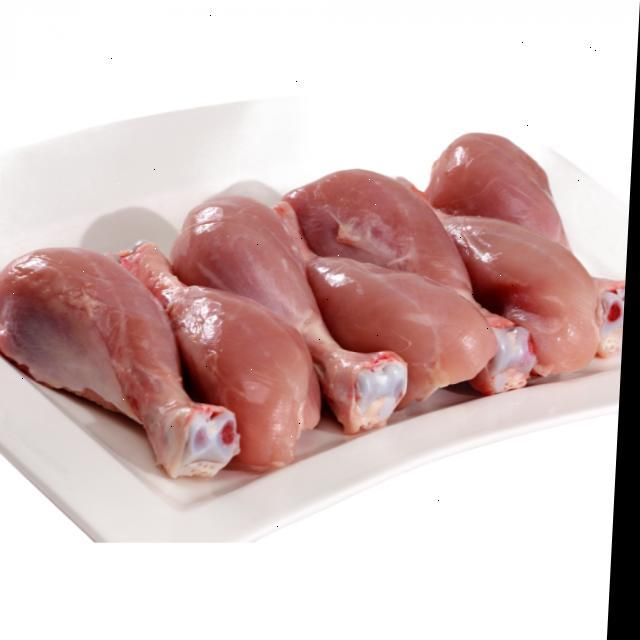leg: (0, 242, 246, 490), (232, 178, 502, 396), (302, 154, 538, 398), (160, 194, 398, 427), (117, 242, 326, 472), (428, 128, 635, 348), (418, 192, 600, 380)
